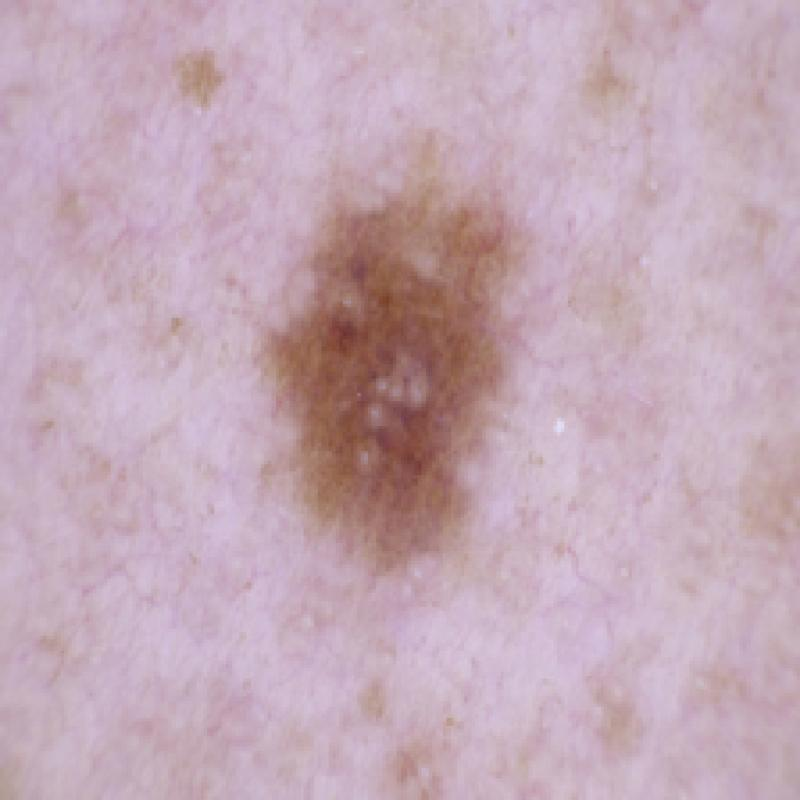benign: (249, 127, 550, 583)
